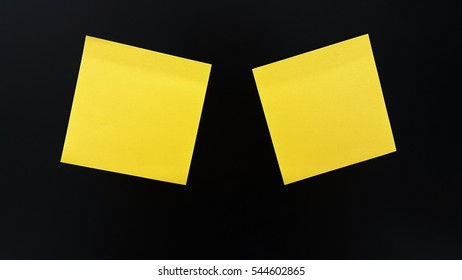Note: (61, 36, 211, 187), (252, 34, 396, 185)
